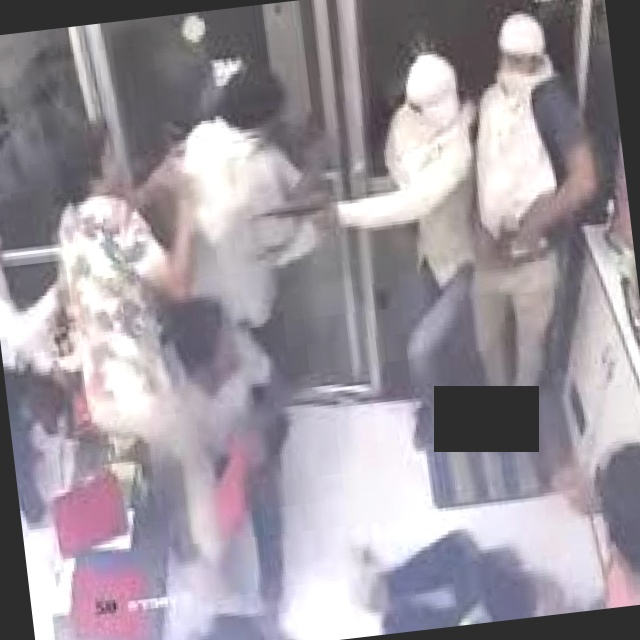gun: (255, 174, 348, 243), (490, 209, 535, 262)
